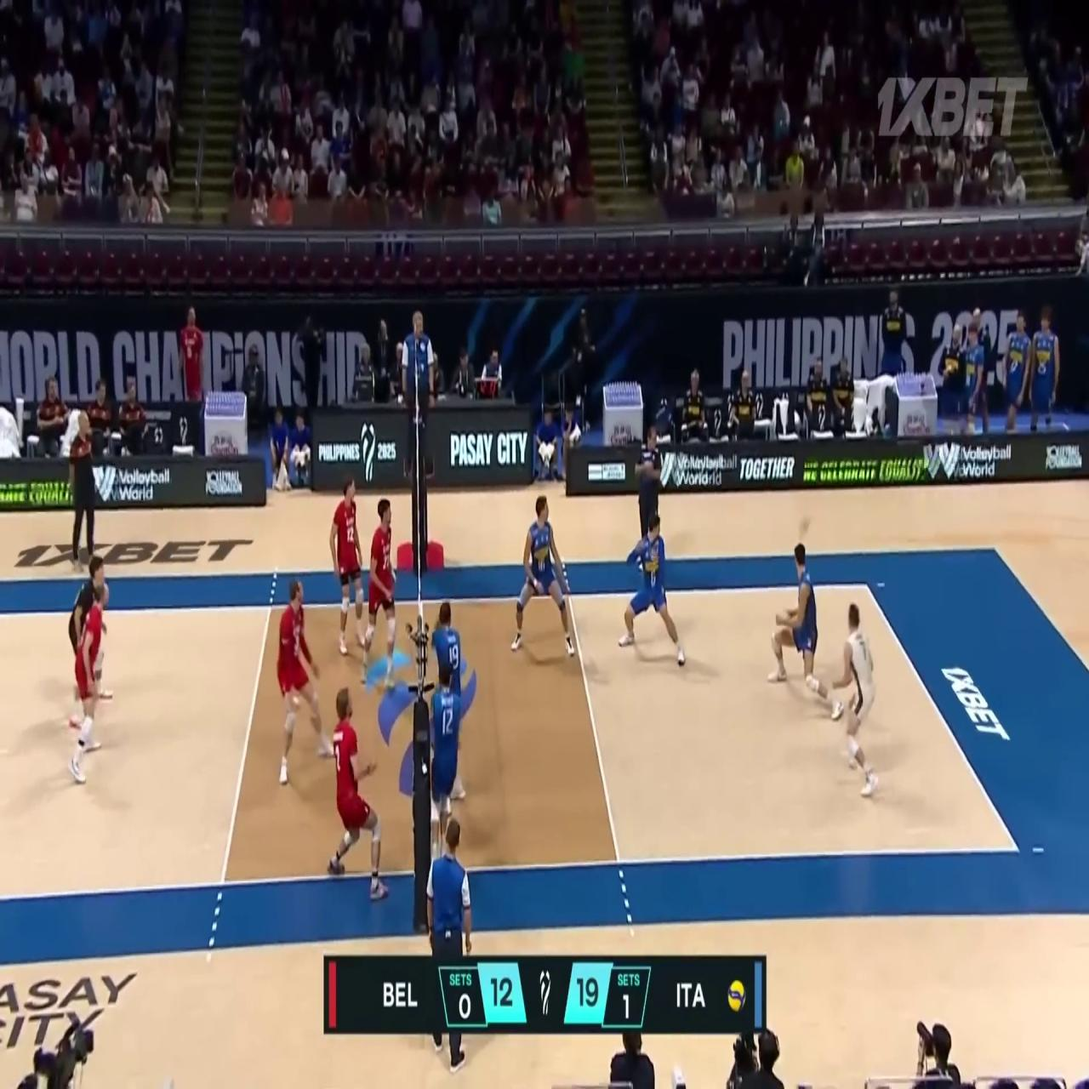ball: (798, 513, 811, 536)
